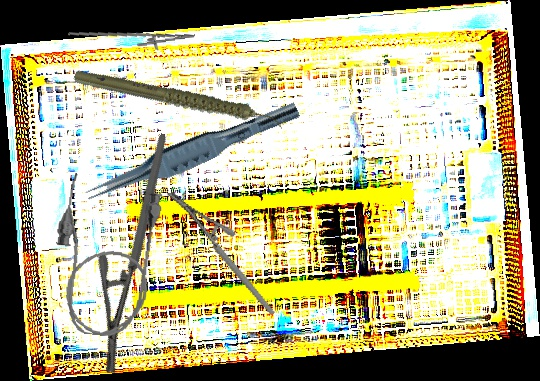Cannula: (45, 171, 165, 342)
Handpiece: (71, 29, 286, 174)
Needle Holder: (38, 133, 236, 376), (166, 172, 276, 335), (67, 18, 197, 61)
Tissue Forceps: (82, 89, 301, 214)
